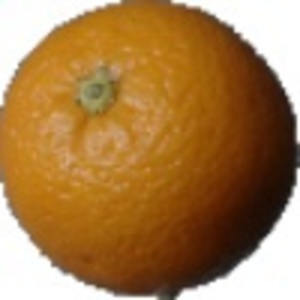laranja: (3, 2, 296, 298)
